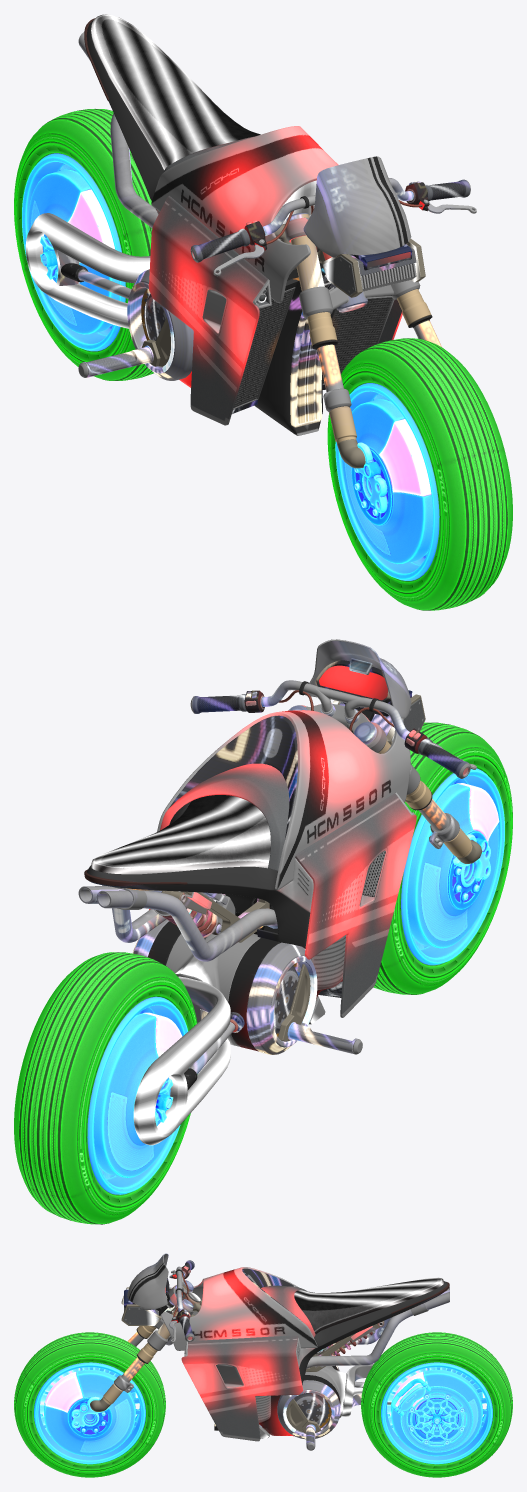
File: SK_Motocycle_AsStaticMesh.fbx
3 views of the same model, one above another, from view 1: azimuth 30°, elevation 25°; view 2: azimuth 150°, elevation 25°; view 3: azimuth 270°, elevation 25° (orthographic). The views are drawn at different scales.
Parts seen in each view (by area): view 1: SK_Motocycle_AsStaticMesh_LOD0; view 2: SK_Motocycle_AsStaticMesh_LOD0; view 3: SK_Motocycle_AsStaticMesh_LOD0.
Boxes of the visible parts, <box> form: SK_Motocycle_AsStaticMesh_LOD0: <box>14,14,512,610</box>; SK_Motocycle_AsStaticMesh_LOD0: <box>14,639,512,1224</box>; SK_Motocycle_AsStaticMesh_LOD0: <box>14,1253,512,1477</box>.
Bounding box in the file's own units: 95.2 × 266 × 127.
